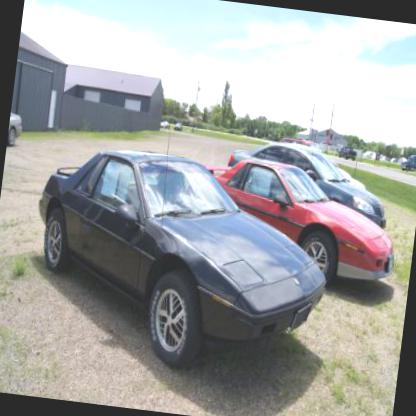car: (19, 116, 344, 384), (189, 152, 406, 290), (221, 135, 393, 228), (268, 136, 368, 190), (5, 107, 26, 152), (335, 148, 357, 162), (172, 120, 184, 131), (162, 119, 172, 128)
